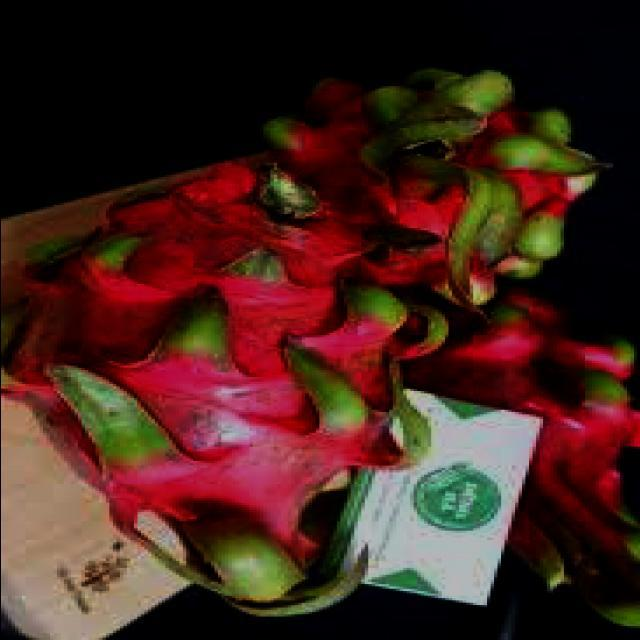do: (4, 170, 452, 624), (265, 64, 605, 298), (419, 286, 639, 631)
